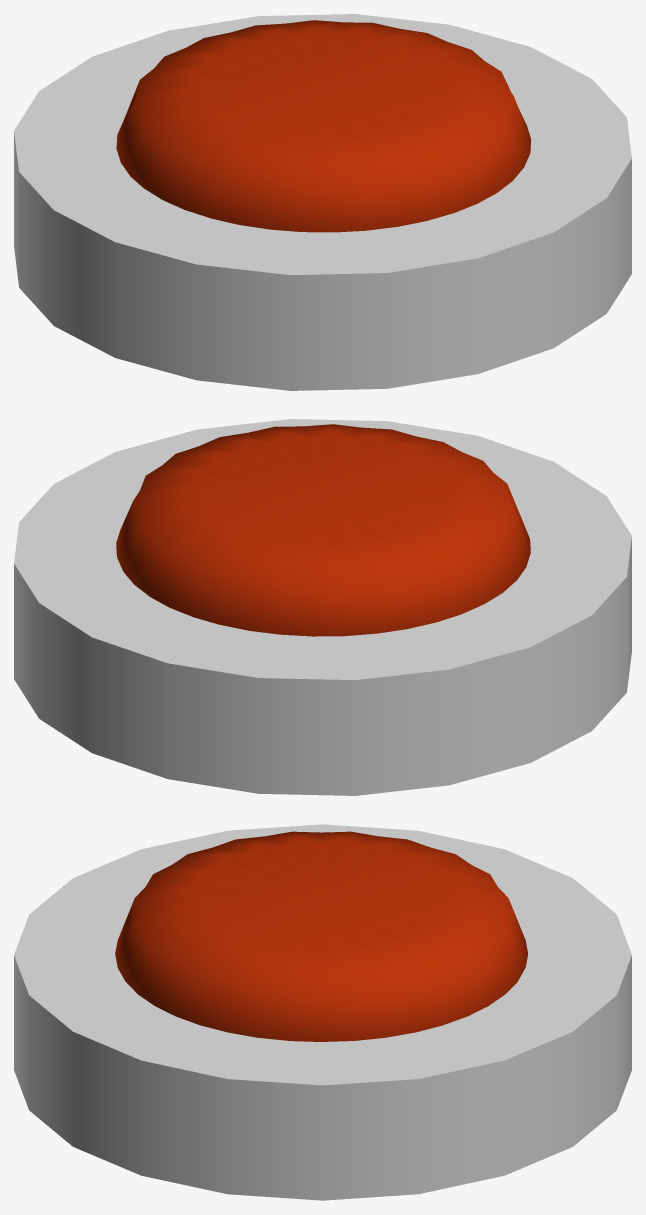
File: Button.fbx
The picture shows the model from 3 angles, top to bottom: view 1: azimuth 30°, elevation 25°; view 2: azimuth 150°, elevation 25°; view 3: azimuth 270°, elevation 25°; orthographic projection.
Parts seen in each view (by area): view 1: polySurface10; view 2: polySurface10; view 3: polySurface10.
Boxes of the visible parts, box(x1,y1,x2,y2) form: polySurface10: box(14, 14, 631, 390); polySurface10: box(14, 419, 631, 795); polySurface10: box(14, 824, 631, 1200).
Size of the model in its own units: 14.47 by 4.49 by 14.47.
